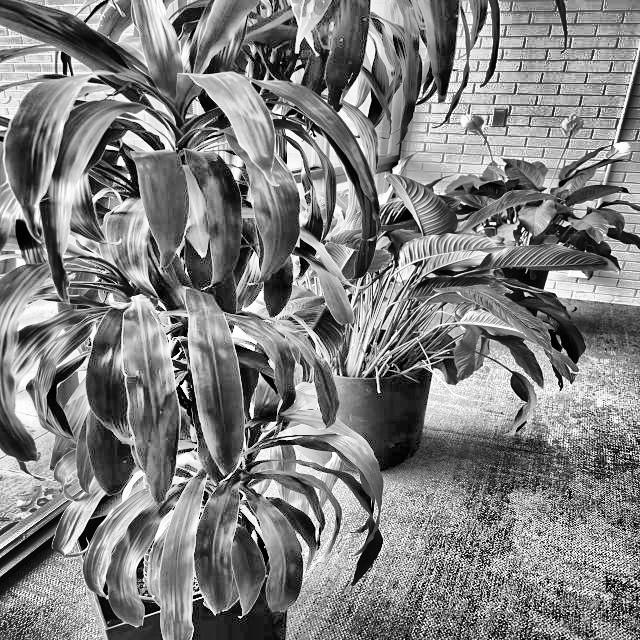plants: (7, 8, 343, 640), (367, 128, 601, 472)
